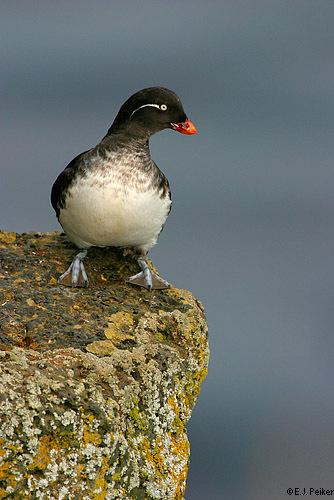007.Parakeet_Auklet: (47, 83, 199, 295)
